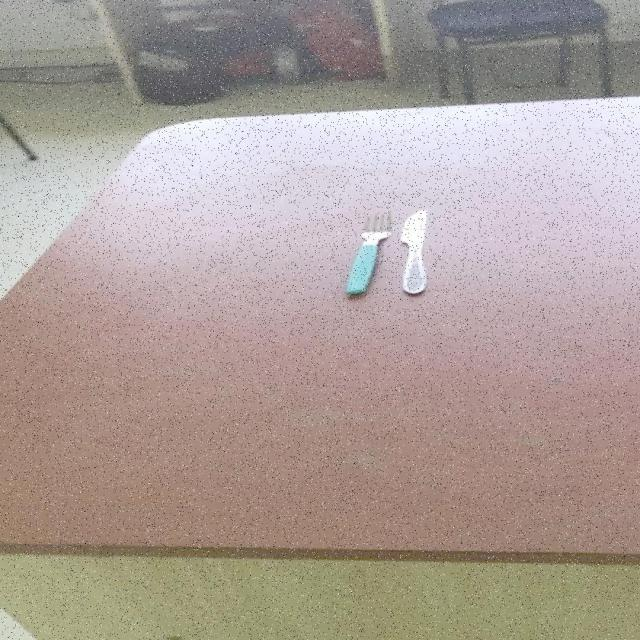Fork: (343, 212, 392, 295)
Knife: (398, 208, 428, 294)
